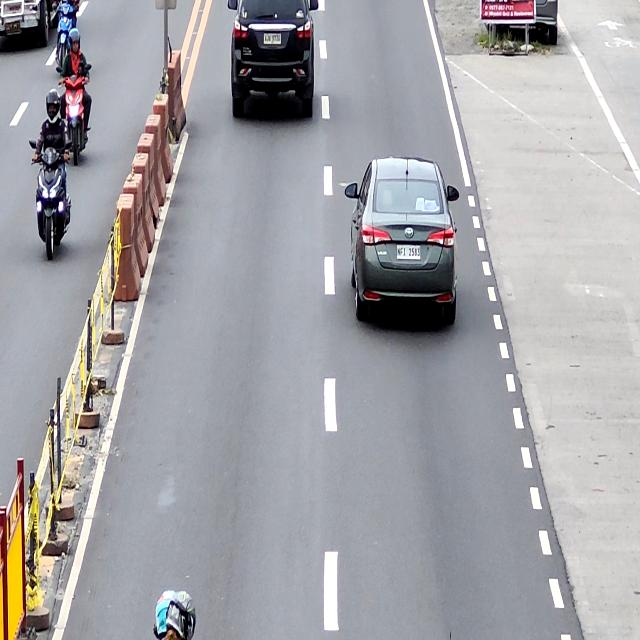Car: (345, 158, 461, 330), (229, 0, 319, 119)
License-Plate: (396, 245, 421, 261), (264, 32, 282, 46)
